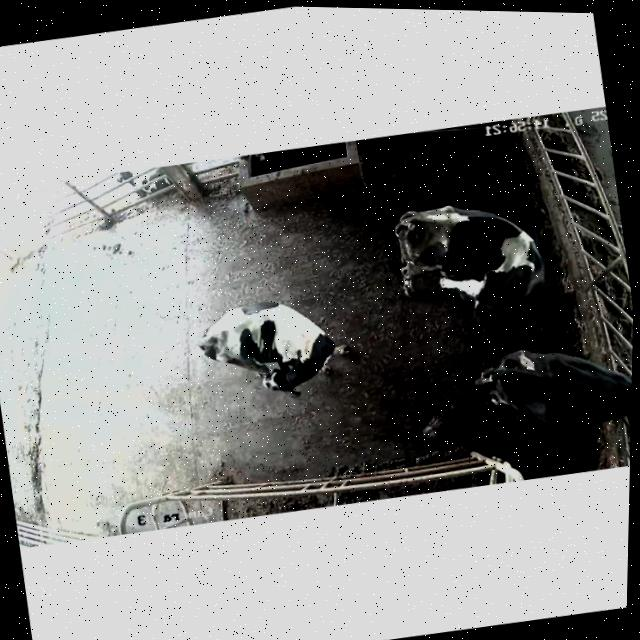stand: (354, 181, 565, 345), (179, 253, 366, 430)
